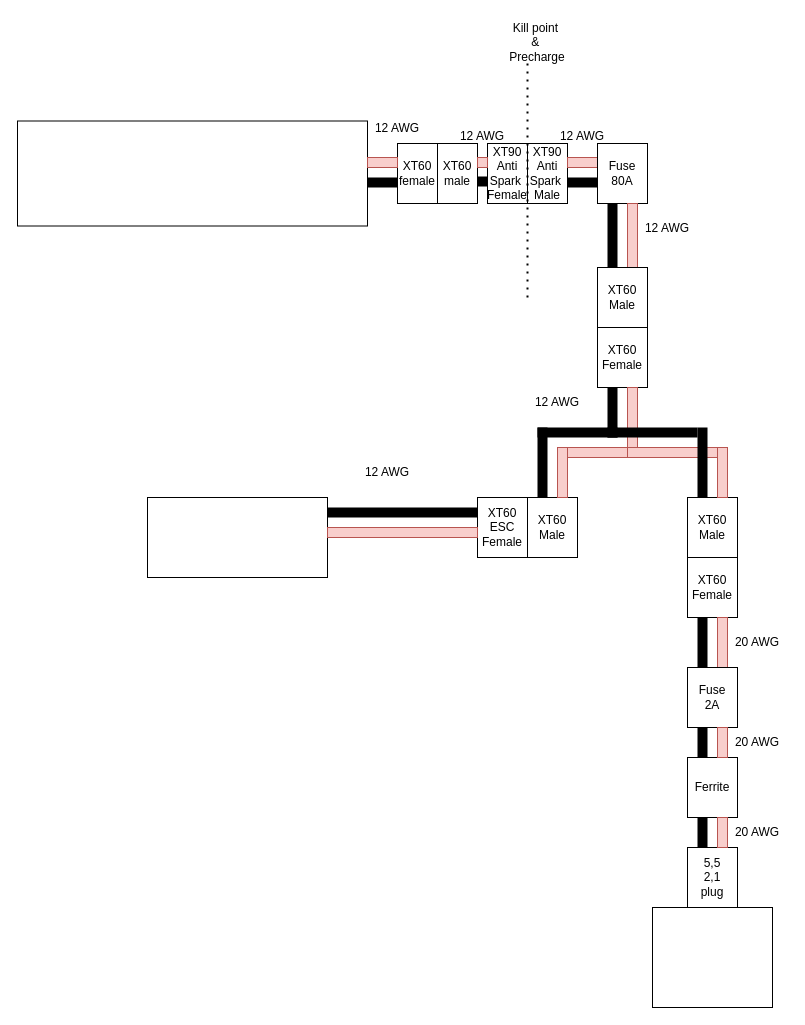
Some shapes in this 805 by 1025 pixel diagram are drawn without their labels. Here are the shapes that lost their labels. From the top down, the box of each, then its label:
(16, 120, 368, 226): LiPo 4S 4000 mAh
(146, 496, 328, 578): 4 in 1 ESC AM32 55A + Strommessung
(652, 906, 772, 1008): Aurix TC399
